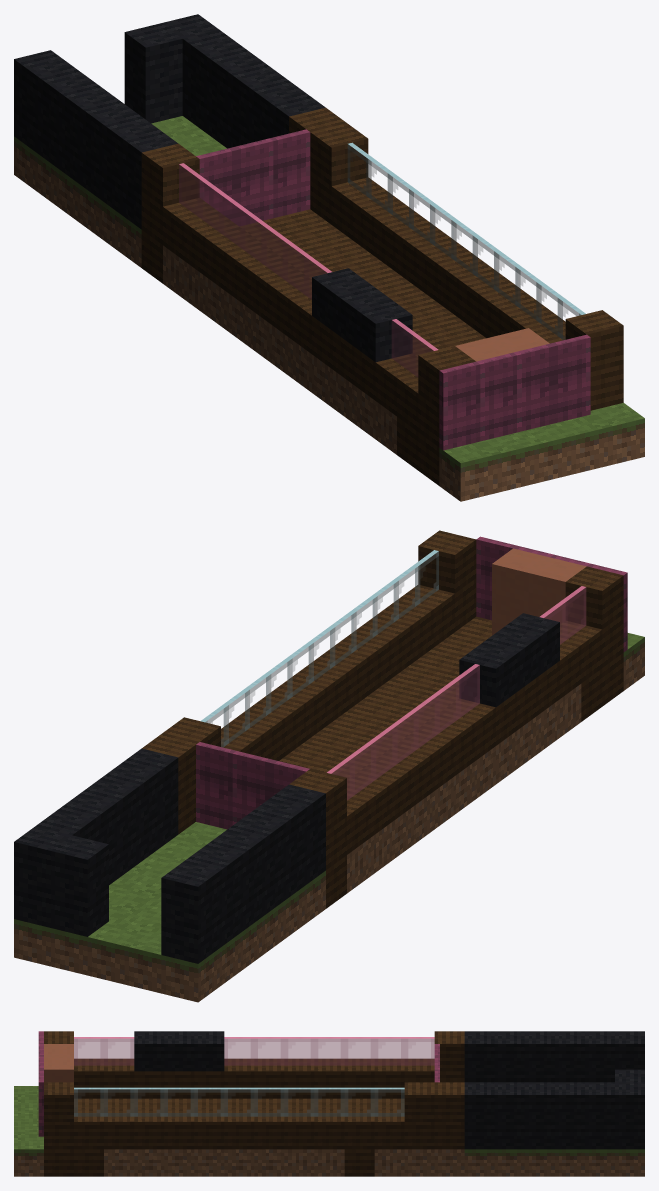
Rendered from Maquete_Alice da Silva Ruas.glb.
3 renders of one model, top to bottom at view 1: azimuth 30°, elevation 25°; view 2: azimuth 150°, elevation 25°; view 3: azimuth 270°, elevation 25°, orthographic. The views are drawn at different scales.
Visible parts, largest first — view 1: node_3, node_4, node_2, node_1; view 2: node_3, node_4, node_1, node_2; view 3: node_3, node_4, node_1, node_2.
Boxes of the visible parts, box(x1,y1,x2,y2) form: node_3: box(120, 92, 644, 501); node_4: box(14, 14, 303, 252); node_2: box(196, 129, 590, 450); node_1: box(179, 142, 585, 377); node_3: box(121, 530, 644, 924); node_4: box(14, 764, 304, 1002); node_1: box(200, 550, 586, 800); node_2: box(196, 536, 627, 829); node_3: box(14, 1031, 494, 1176); node_4: box(494, 1031, 644, 1176); node_1: box(74, 1037, 434, 1116); node_2: box(38, 1031, 439, 1136).
Size of the model in its own units: 5 by 3 by 21.
3 materials, 3 textured.
